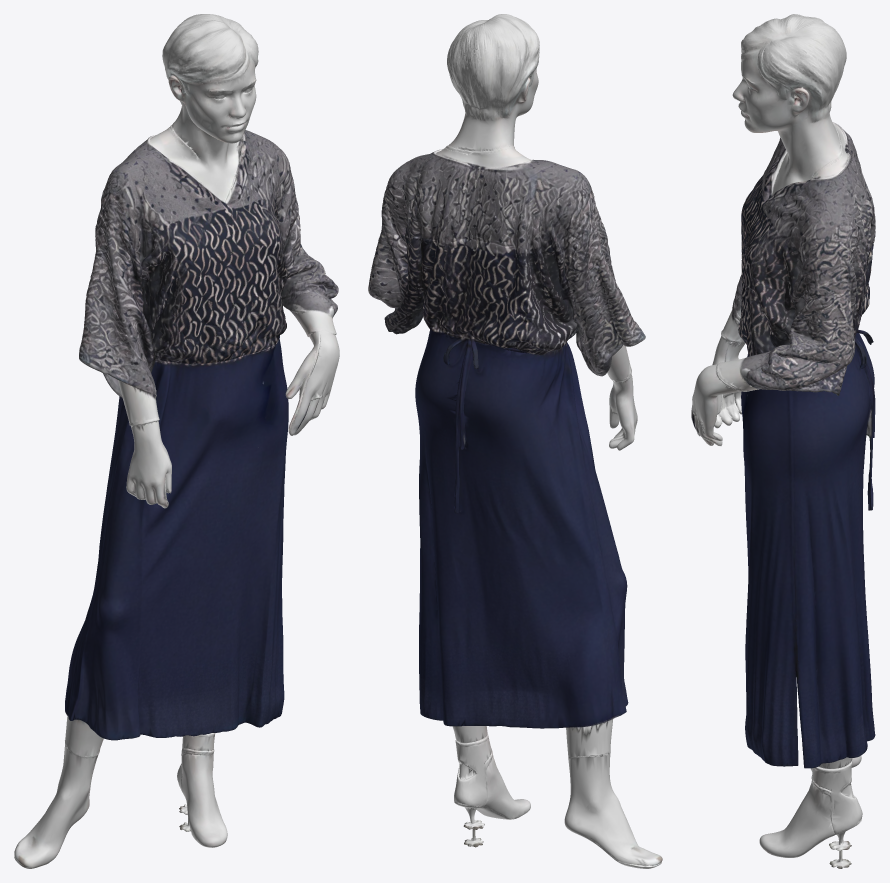
The picture shows the model from 3 angles, left to right: view 1: azimuth 30°, elevation 25°; view 2: azimuth 150°, elevation 25°; view 3: azimuth 270°, elevation 25°; orthographic projection. The views are drawn at different scales.
Visible parts, largest first — view 1: tripo_node_3b29e225-e031-4ad5-89ce-6a60d78032cc; view 2: tripo_node_3b29e225-e031-4ad5-89ce-6a60d78032cc; view 3: tripo_node_3b29e225-e031-4ad5-89ce-6a60d78032cc.
Part boxes in pixels (x1,y1,x2,y2): tripo_node_3b29e225-e031-4ad5-89ce-6a60d78032cc: (14,14,339,868); tripo_node_3b29e225-e031-4ad5-89ce-6a60d78032cc: (368,14,662,868); tripo_node_3b29e225-e031-4ad5-89ce-6a60d78032cc: (691,14,875,868).
Bounding box in the file's own units: 0.3659 × 0.9803 × 0.1936.
1 material, 1 textured.
